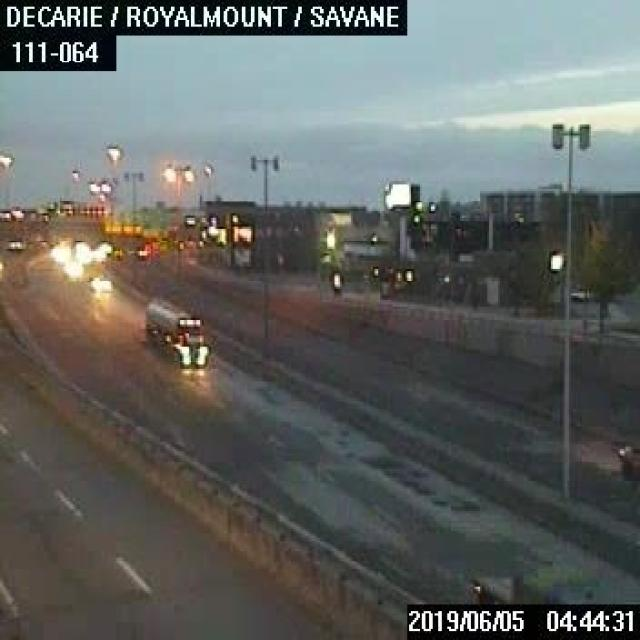vehicle: (474, 565, 599, 606), (142, 296, 211, 366), (607, 438, 638, 477)
